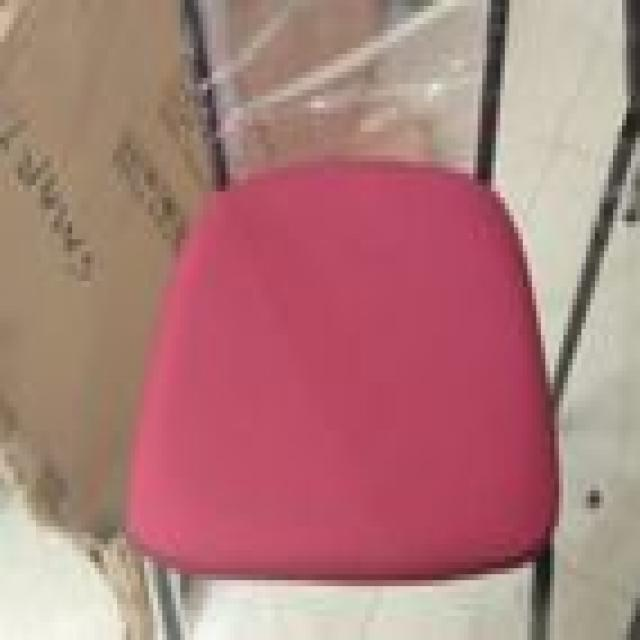others: (108, 6, 618, 640)
